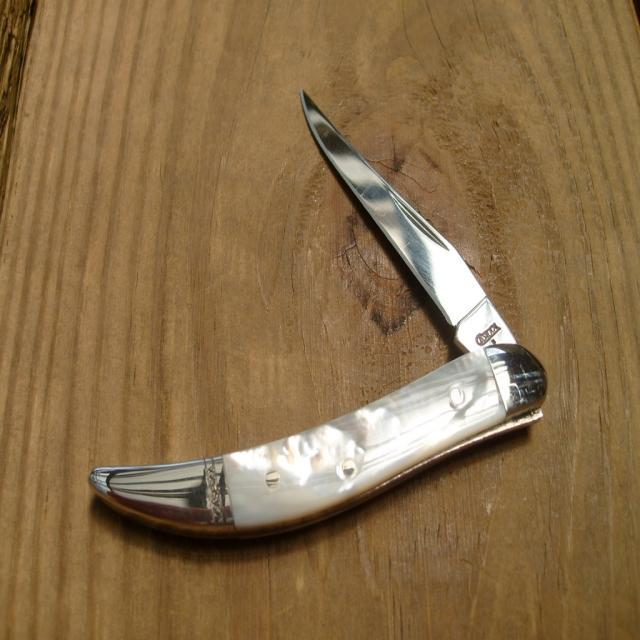Knife: (90, 92, 546, 536)
